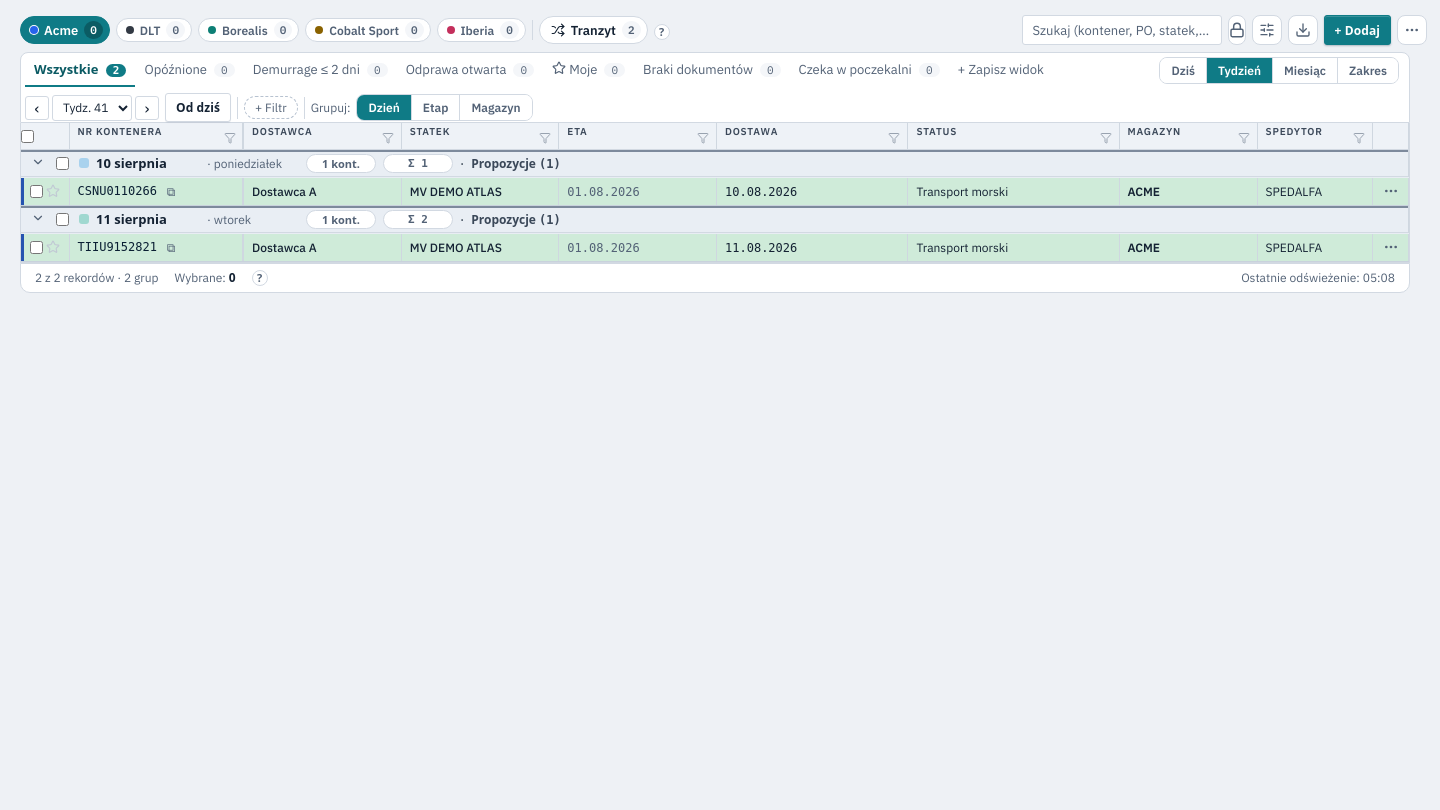
Test case: pasek akcji masowych › zmiana statusu = jedno żądanie bulk; potem czyści zaznaczenie i pokazuje wynik z błędem
This screenshot has width=1440, height=810.
Check: the text "CSNU0110266" is shown, box top-left (78, 184), bottom-right (157, 198)
Click the checkbox named "Zaznacz wszystkie" at (28, 136), box top-left (21, 130), bottom-right (34, 143)
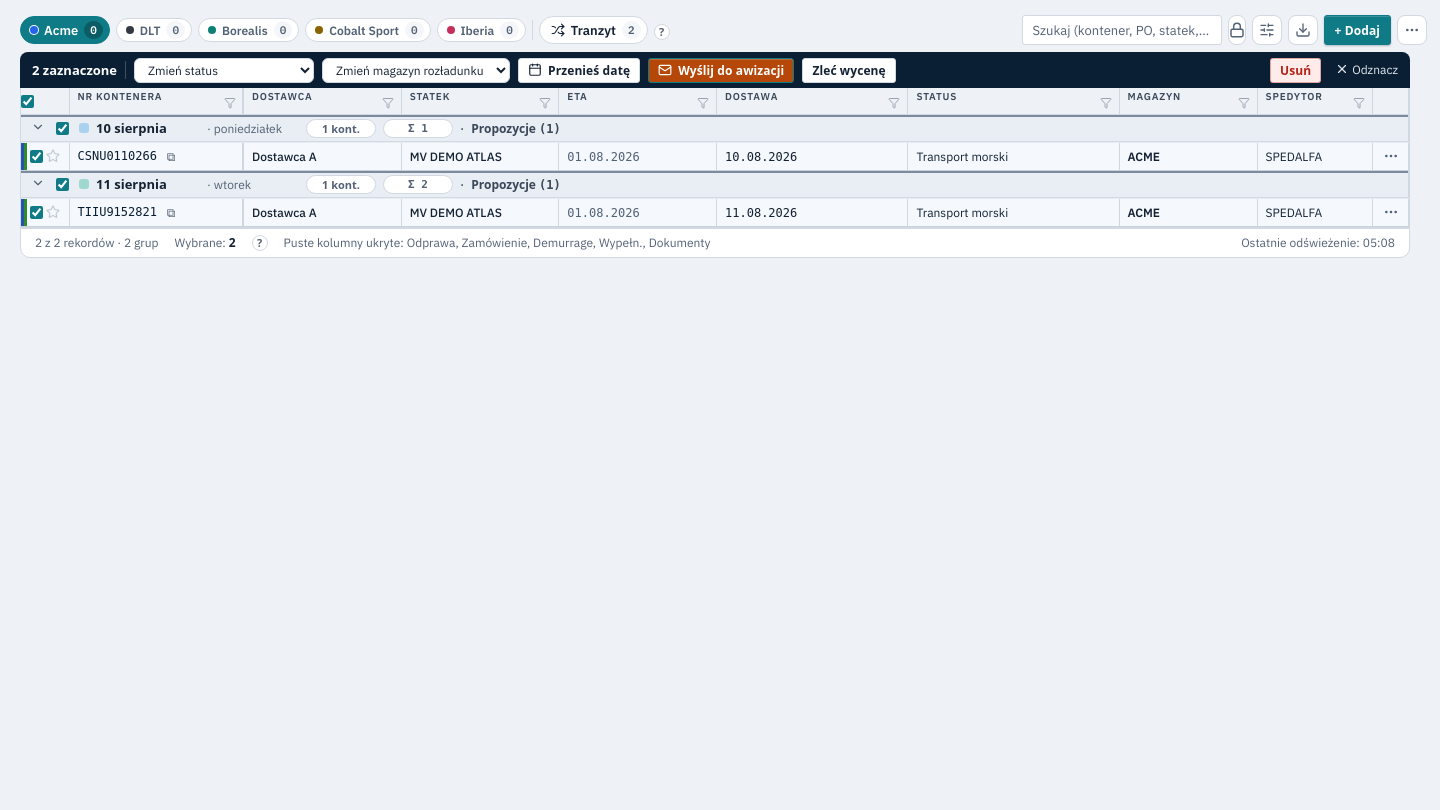
Select "4 · Port docelowy" in the dropdown named "Zmień status" at (224, 70), box top-left (134, 58), bottom-right (314, 82)
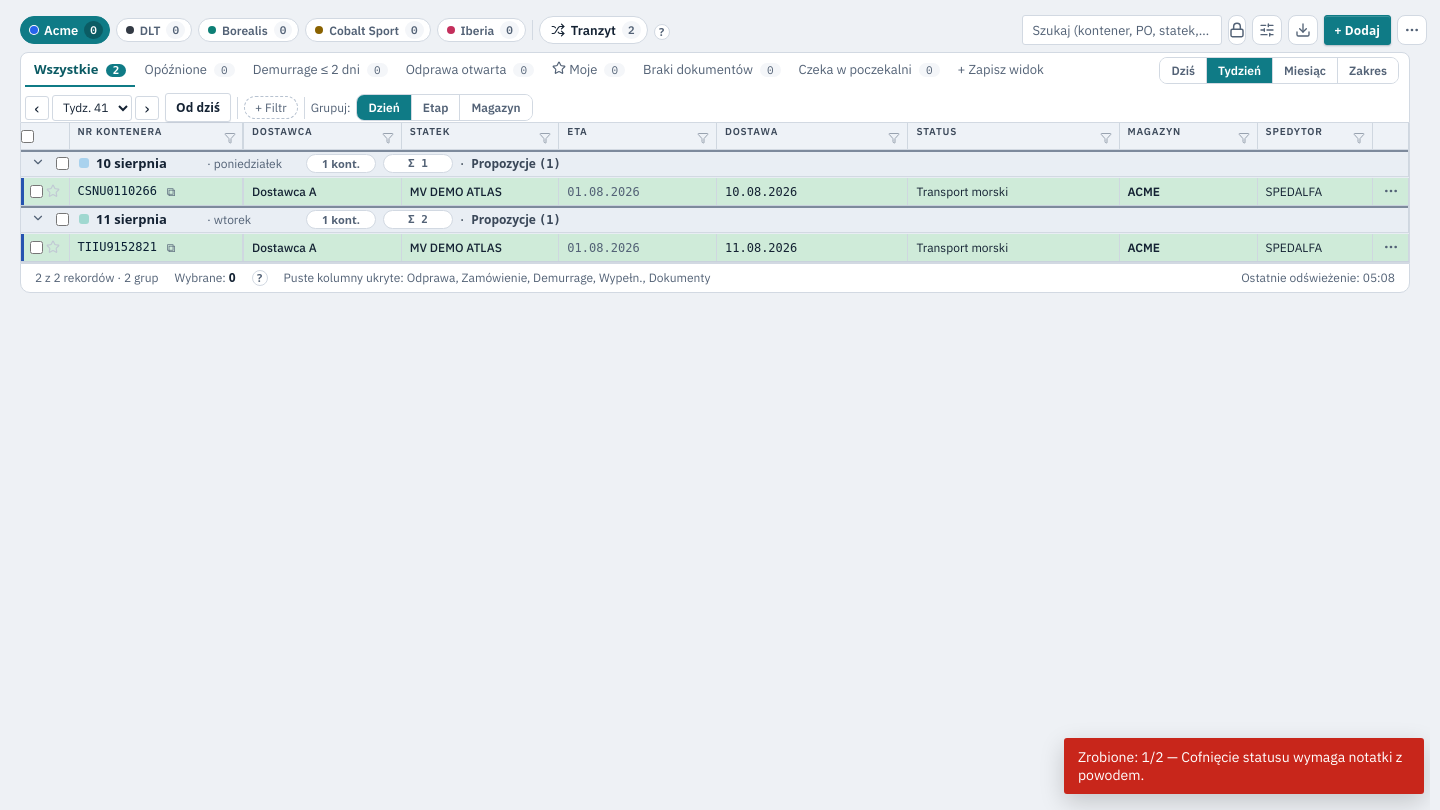
Check: the element with class "kq-bulk" is gone
Check: the button "Zrobione: 1/2 — Cofnięcie statusu wymaga notatki z powodem." is shown, box top-left (1064, 738), bottom-right (1424, 794)
